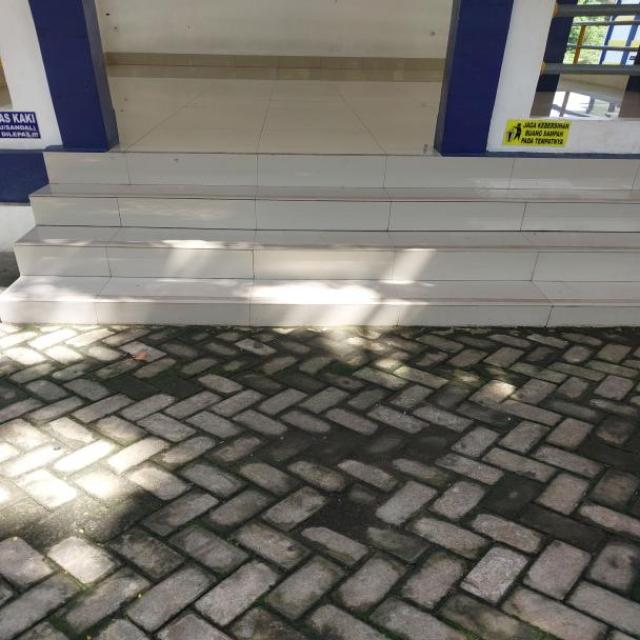stairs ahead at: (23, 156, 640, 326)
